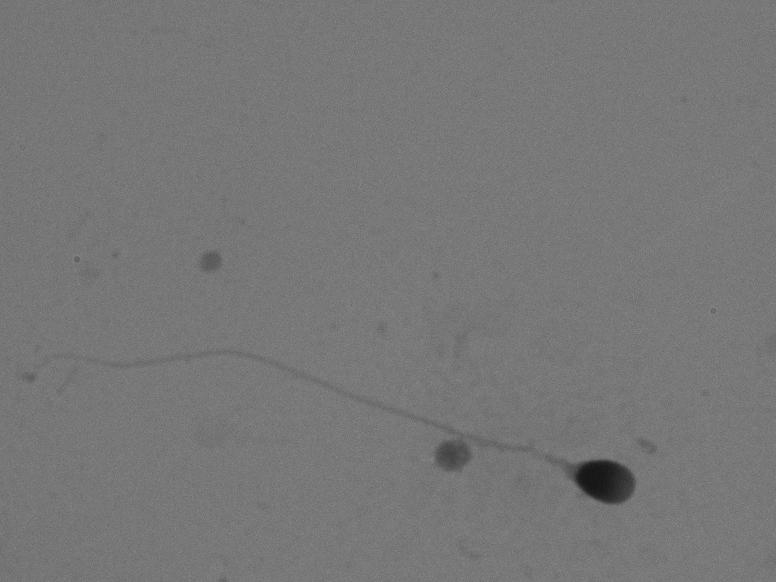Normal: (30, 314, 661, 514)
